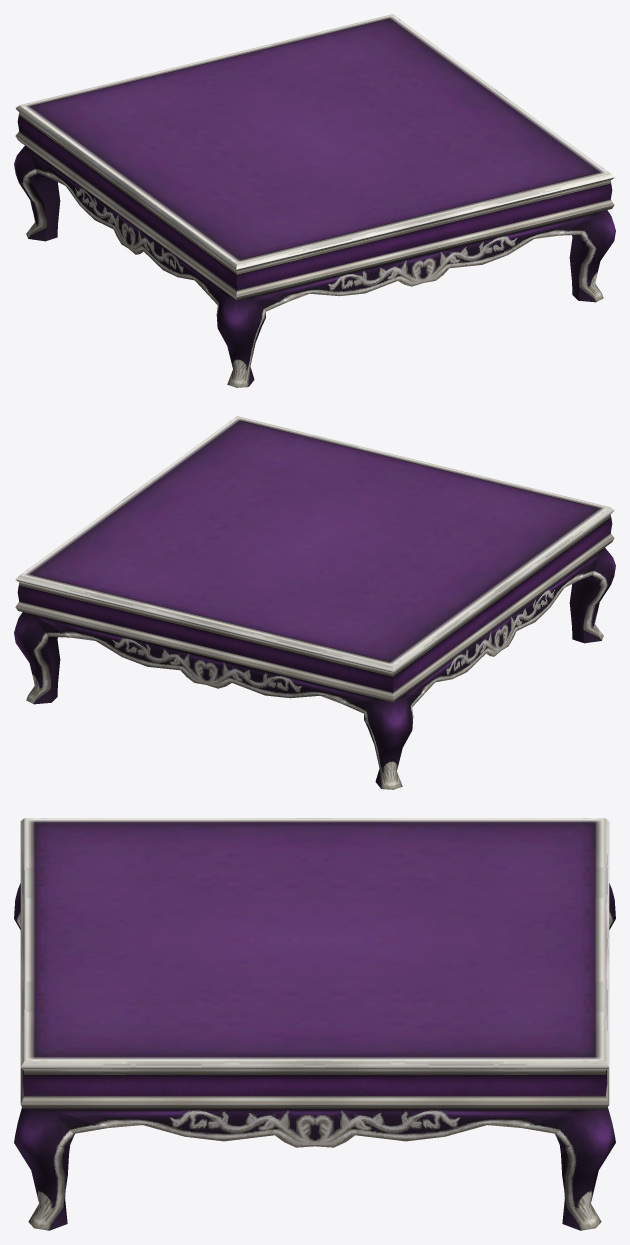
Rendered from furni_0201105_01.FBX.
3 renders of one model, top to bottom at view 1: azimuth 30°, elevation 25°; view 2: azimuth 150°, elevation 25°; view 3: azimuth 270°, elevation 25°, orthographic. The views are drawn at different scales.
Visible parts, largest first — view 1: furni_0201105_01; view 2: furni_0201105_01; view 3: furni_0201105_01.
Boxes of the visible parts, x1,y1,x2,y2 form: furni_0201105_01: [14, 14, 615, 387]; furni_0201105_01: [14, 416, 615, 789]; furni_0201105_01: [14, 818, 615, 1230].
Bounding box in the file's own units: 163 × 50.02 × 161.
Materials: 1 (1 with a texture image).
